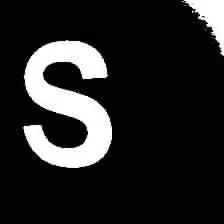LTR_S: (15, 34, 115, 174)
